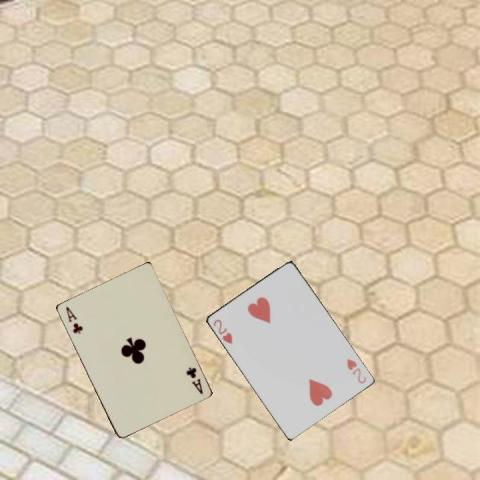2h: (344, 355, 368, 385), (210, 316, 233, 345)
Ac: (63, 304, 84, 336), (183, 364, 204, 395)
